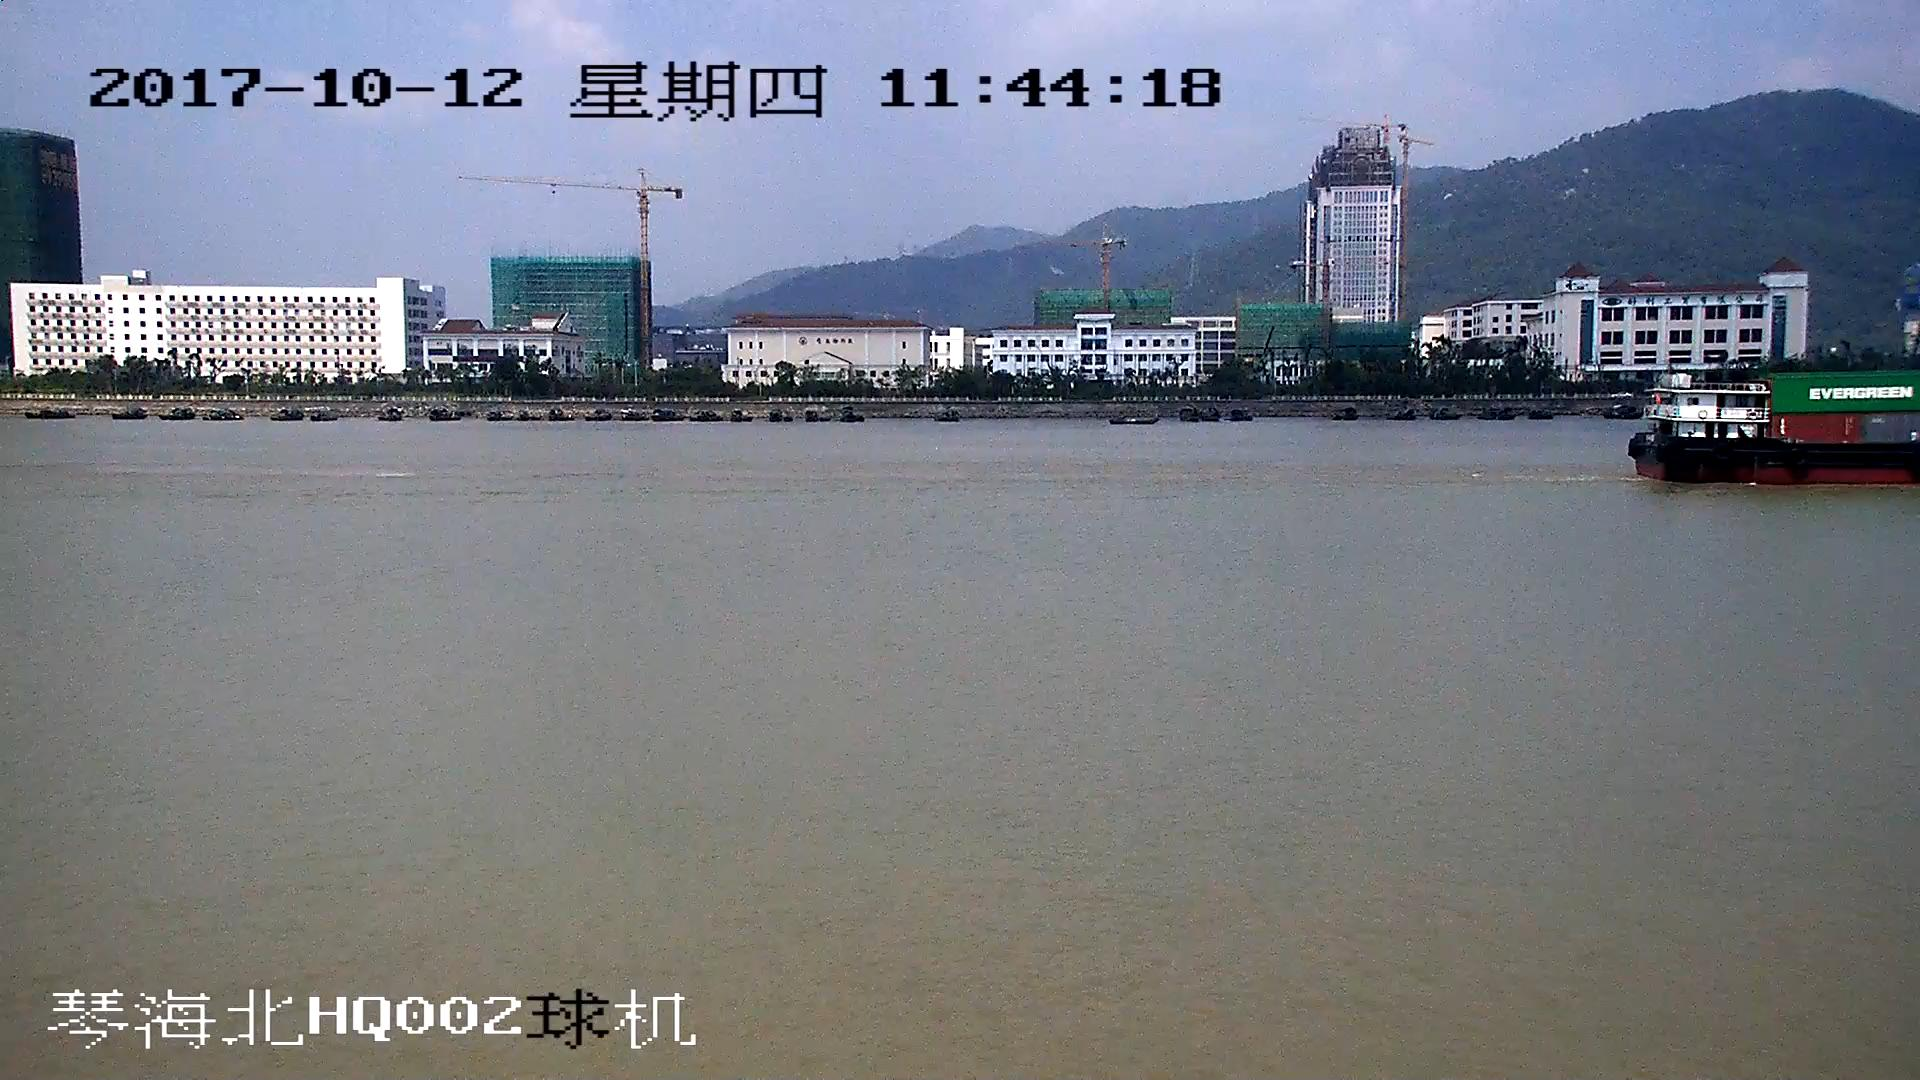container ship: (1635, 375, 1920, 480)
